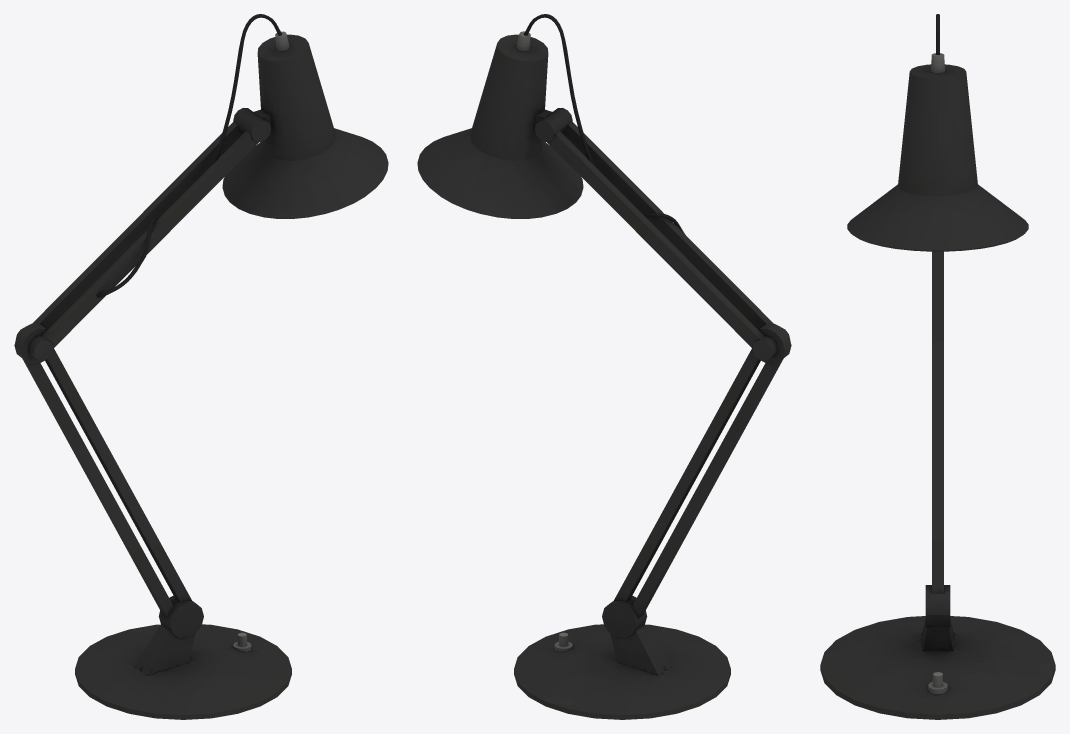
The model's file is desk_lamp.glb.
The picture shows the model from 3 angles, left to right: view 1: azimuth 30°, elevation 25°; view 2: azimuth 150°, elevation 25°; view 3: azimuth 270°, elevation 25°; orthographic projection. The views are drawn at different scales.
Visible parts, largest first — view 1: lamp_a_0; view 2: lamp_a_0; view 3: lamp_a_0.
Part boxes in pixels (<box>): lamp_a_0: <box>14,14,388,719</box>; lamp_a_0: <box>417,14,791,719</box>; lamp_a_0: <box>820,14,1055,719</box>.
Bounding box in the file's own units: 33.59 × 57.33 × 17.6.
1 material, 1 textured.
